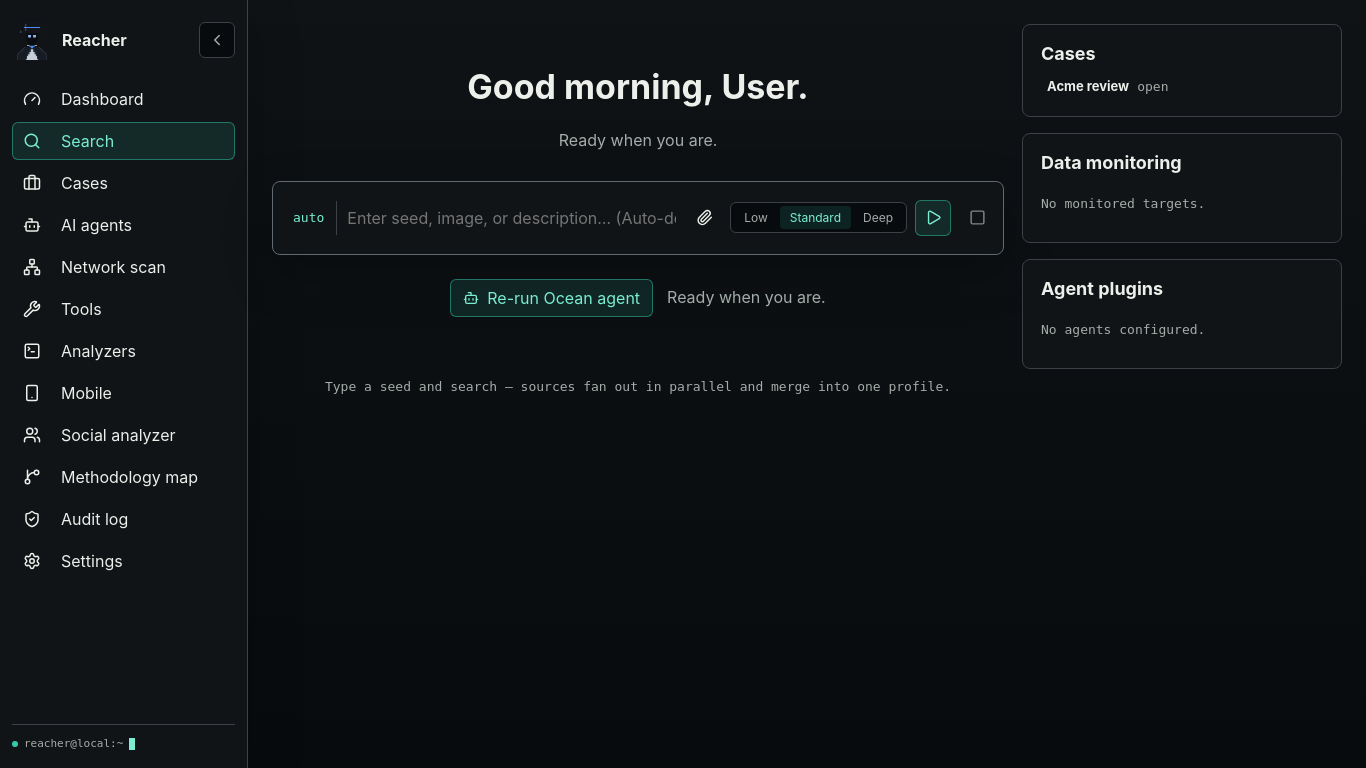
it: search route saves a selected tree node to a case so search output becomes evidence
In the field labelled "seed": [512, 218] box [345, 197, 678, 239], type "example.com"
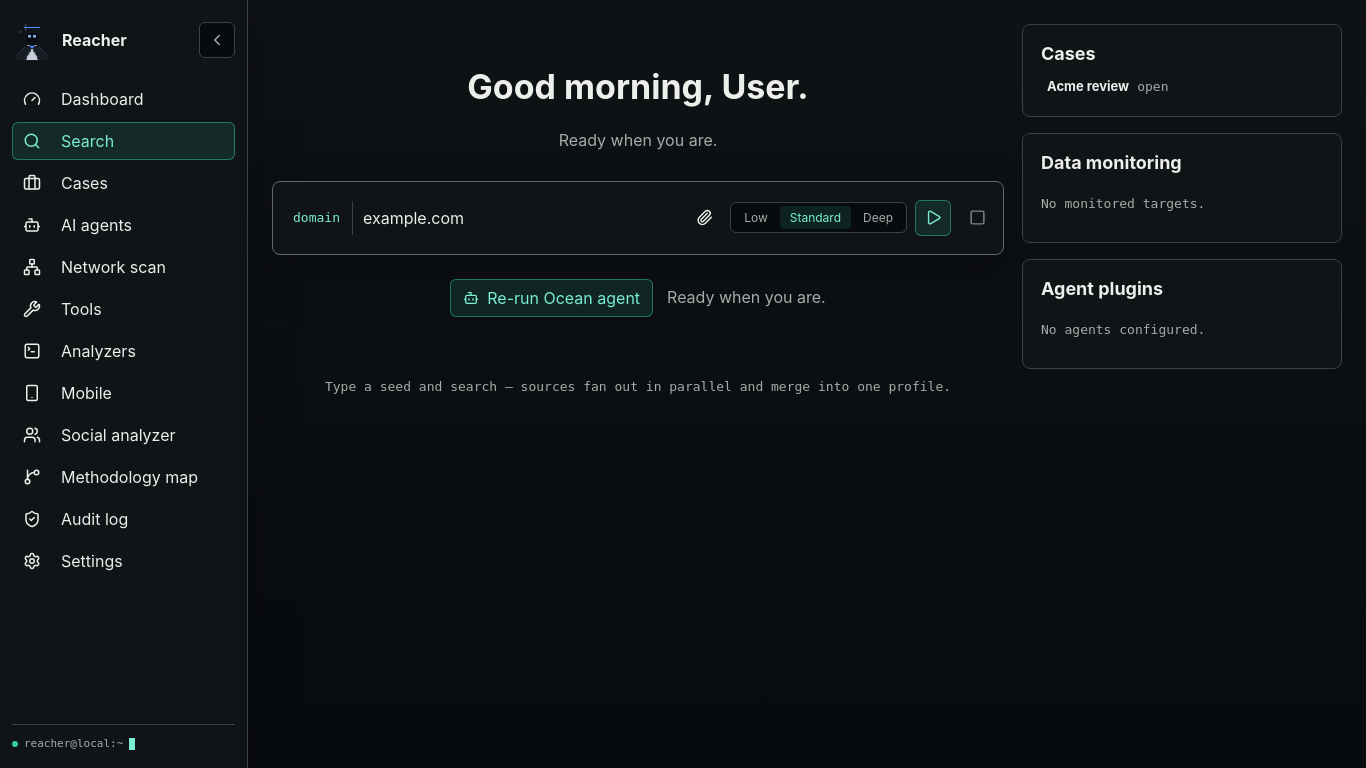
Click the button named "Search": [933, 218] box [915, 200, 951, 236]
(page scrolled)
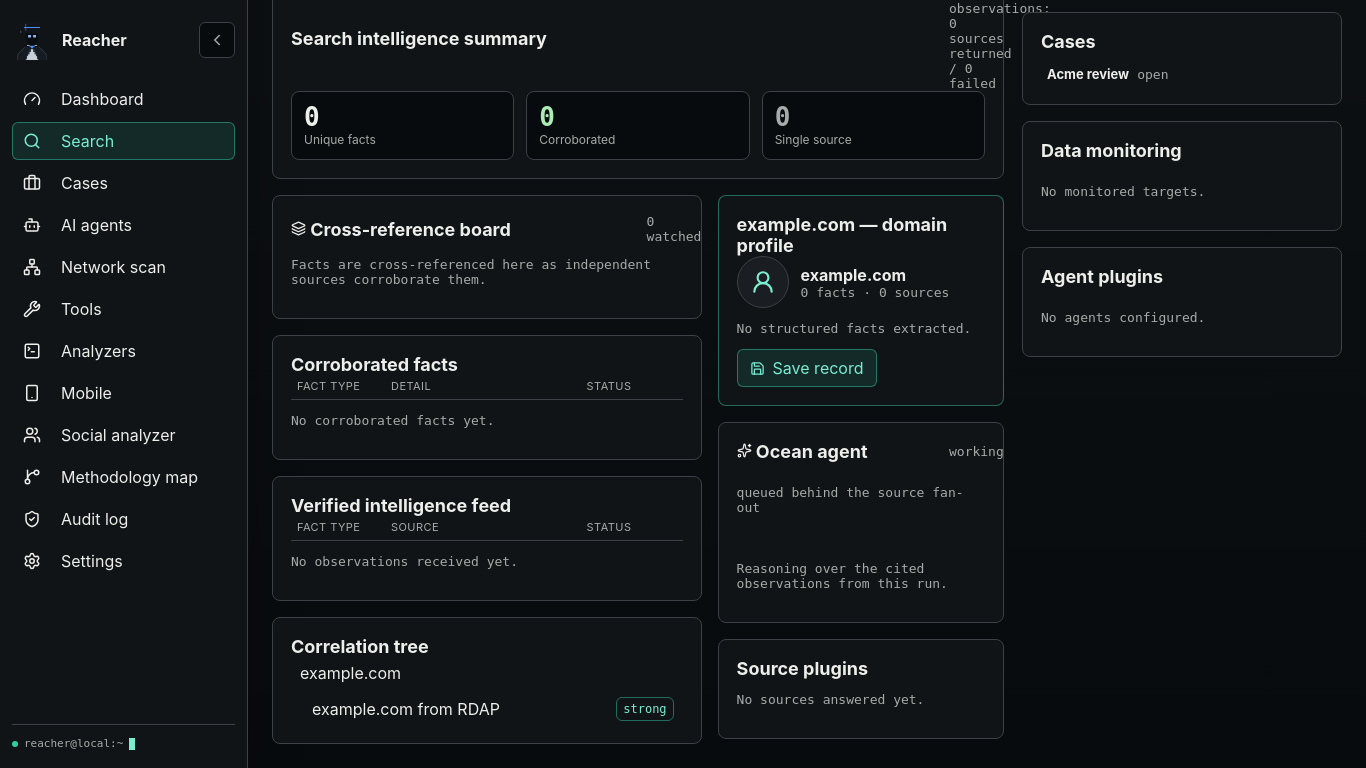
Click the button "example.com from RDAP strong": [493, 709] box [303, 693, 683, 725]
(page scrolled)
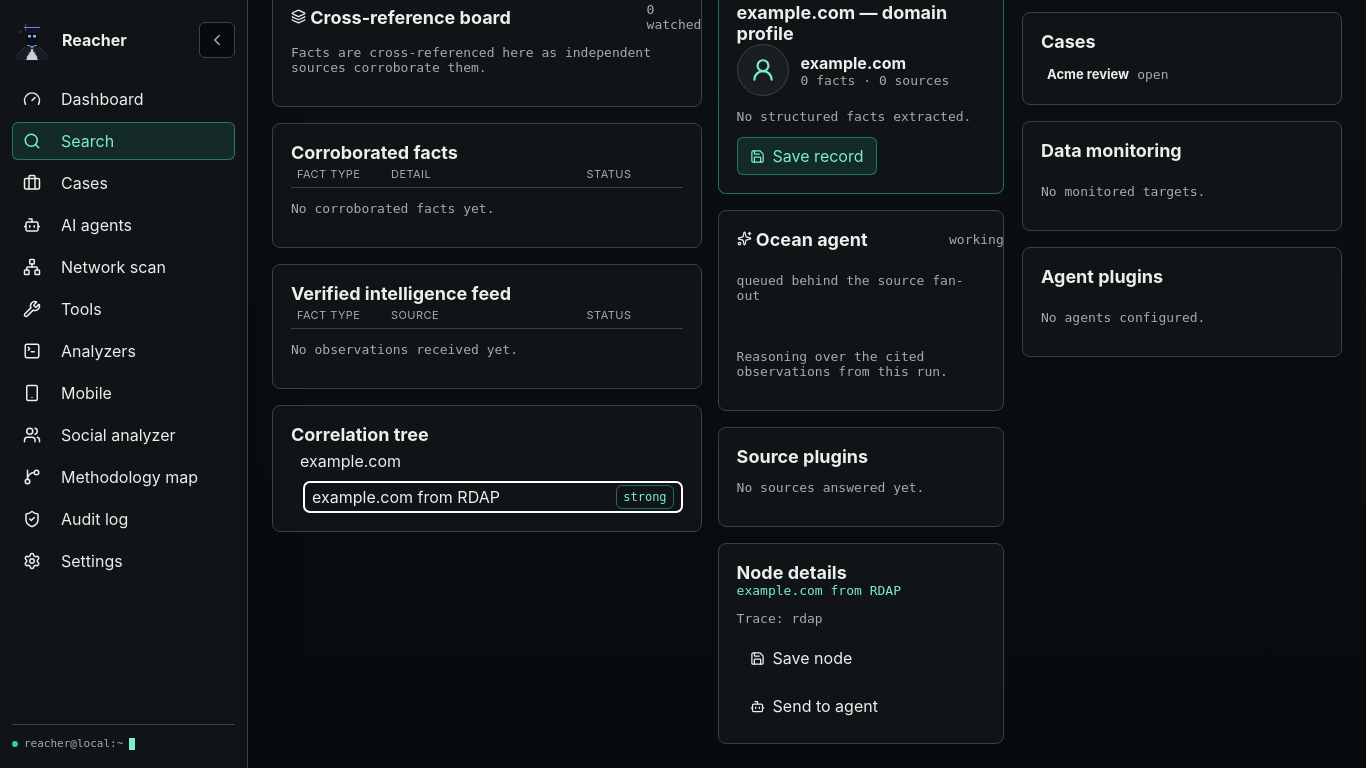
Click the button "Save node": [801, 658] box [737, 639, 865, 677]
(page scrolled)
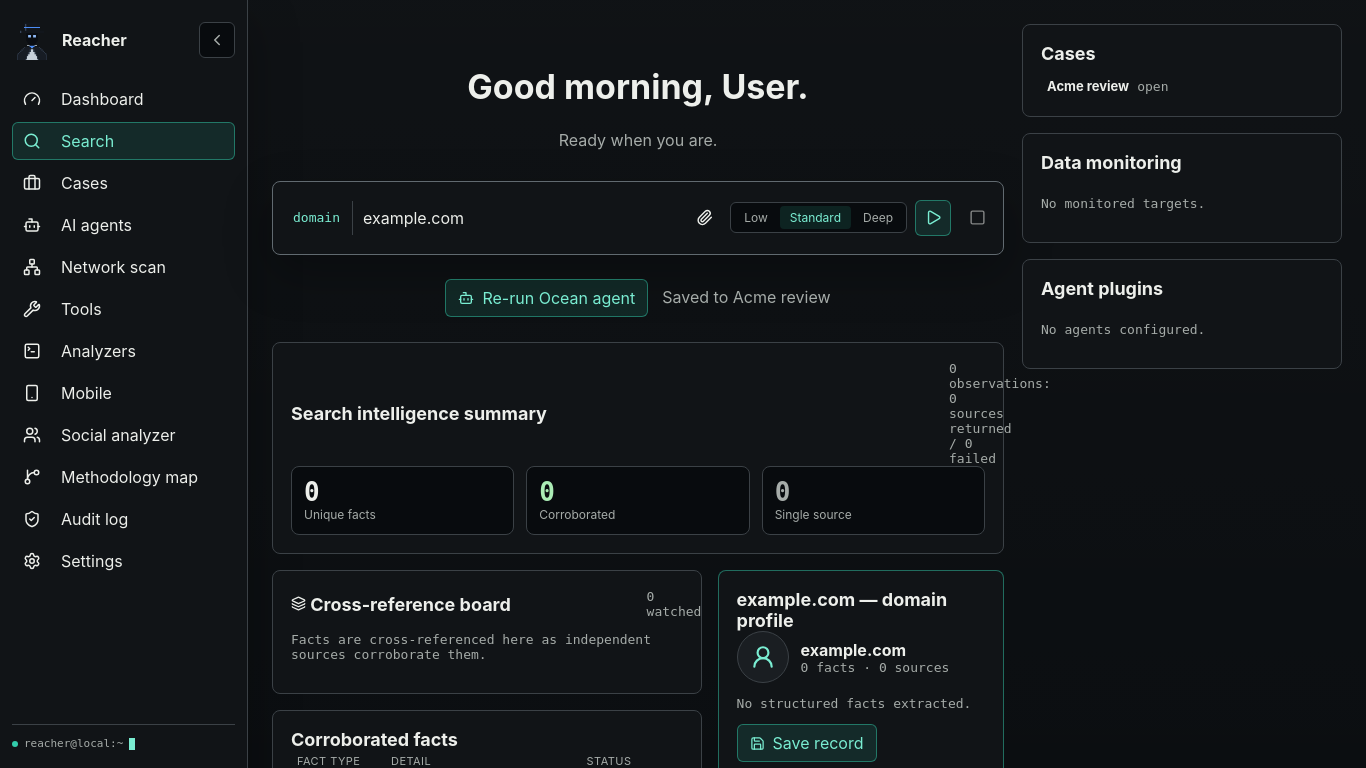
expect the text "Saved to Acme review" is shown: met, box [662, 285, 831, 310]
